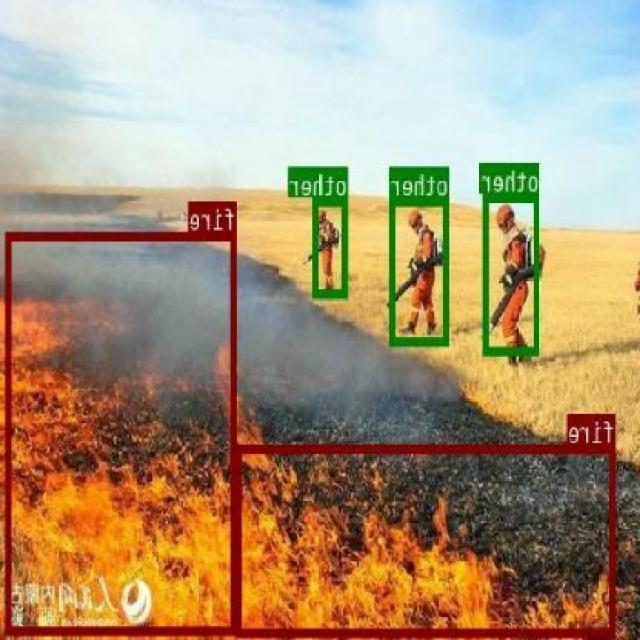Fire: (6, 231, 237, 634), (237, 442, 617, 636)
